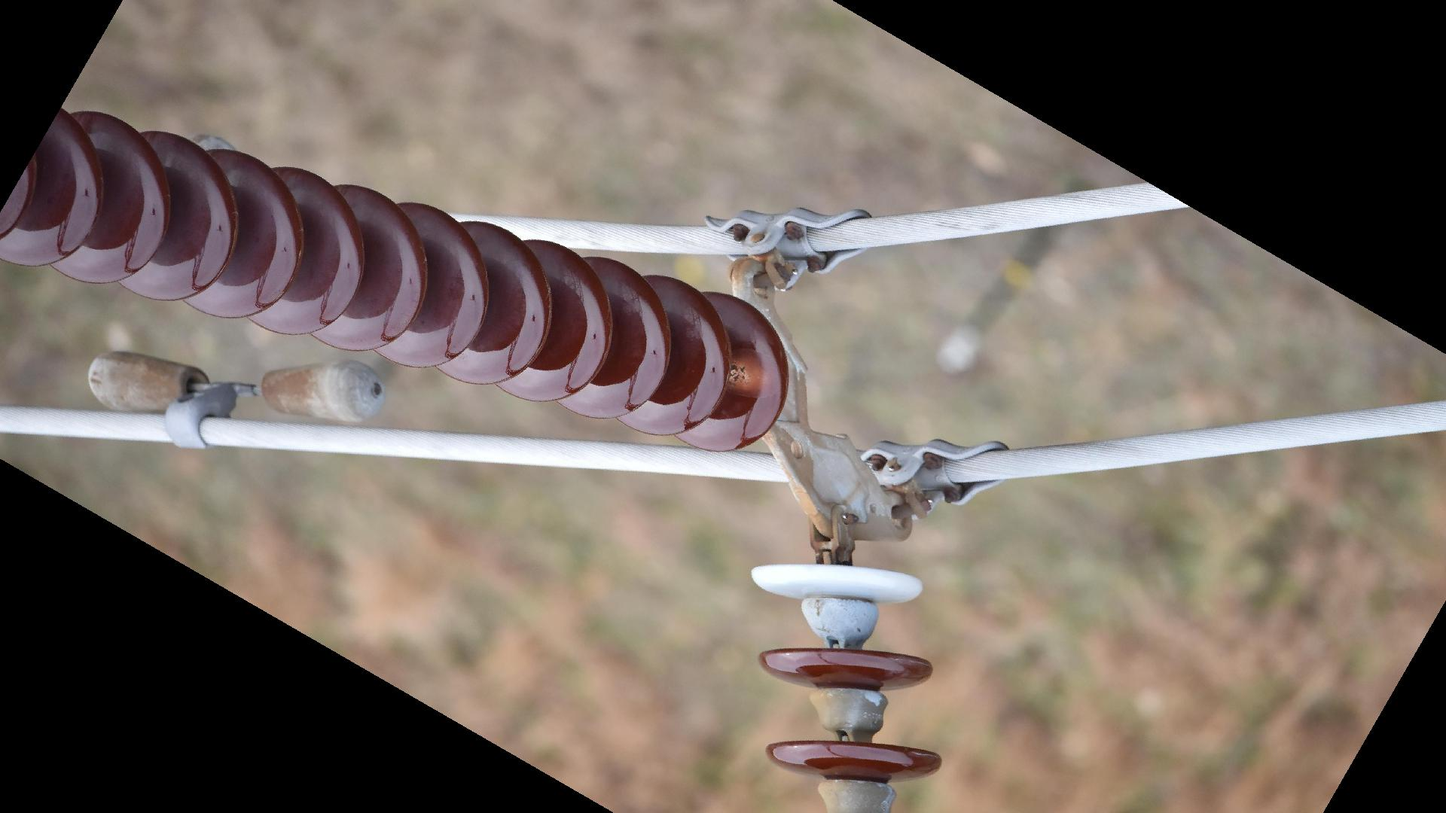insulator: (1, 101, 801, 457), (741, 558, 949, 813)
insulator_flashover: (724, 358, 776, 400)
